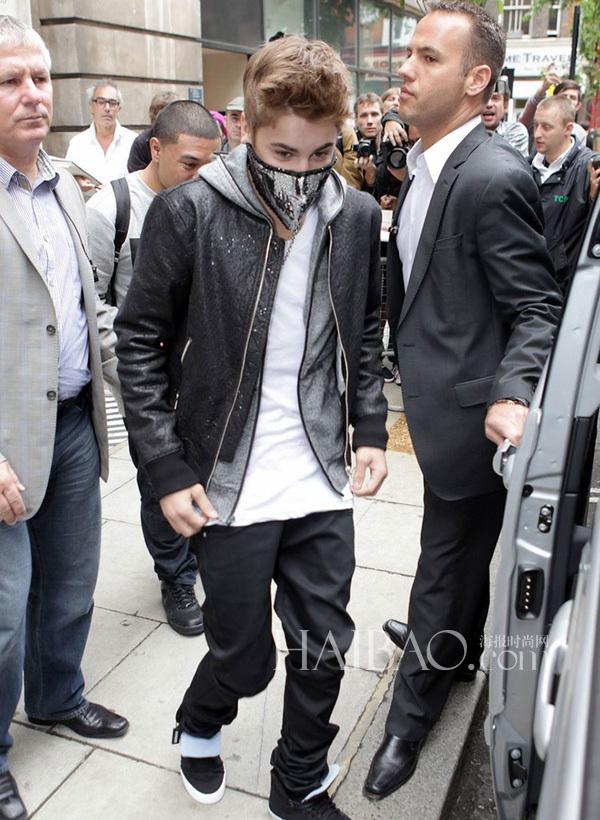NONE: (399, 39, 464, 125), (1, 59, 60, 141), (161, 141, 213, 194), (479, 90, 505, 126), (536, 118, 561, 153), (96, 92, 121, 126), (361, 110, 381, 137)
OK: (258, 126, 351, 219)
